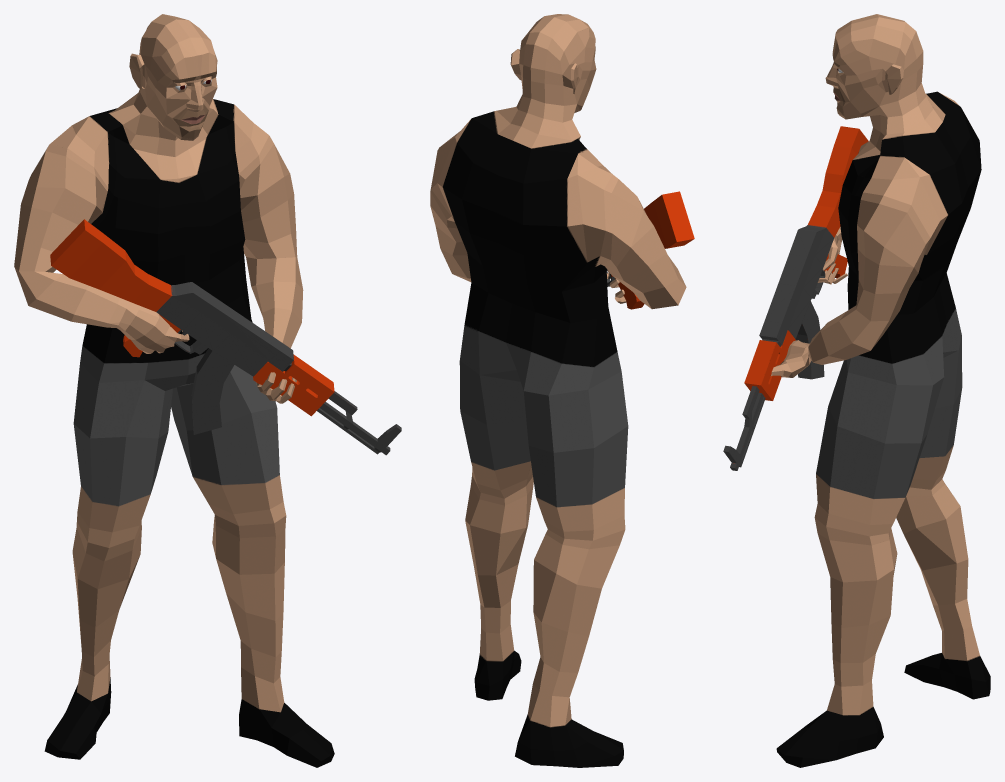
The model's file is PlayerIdle(28).obj.
The picture shows the model from 3 angles, left to right: view 1: azimuth 30°, elevation 25°; view 2: azimuth 150°, elevation 25°; view 3: azimuth 270°, elevation 25°; orthographic projection. The views are drawn at different scales.
Visible parts, largest first — view 1: Plane002, Object001; view 2: Plane002, Object001; view 3: Plane002, Object001.
Boxes of the visible parts, x1,y1,x2,y2 form: Plane002: [14, 14, 334, 767]; Object001: [50, 219, 401, 455]; Plane002: [430, 14, 686, 767]; Object001: [606, 191, 694, 309]; Plane002: [771, 14, 990, 767]; Object001: [723, 126, 868, 470].
Bounding box in the file's own units: 749 × 1809 × 629.
